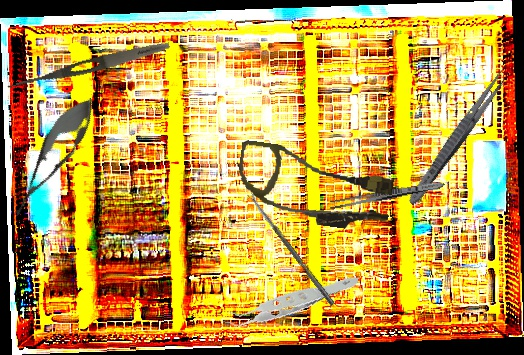Cannula: (232, 139, 397, 235)
Dressing Forceps: (404, 66, 511, 209), (5, 37, 172, 96), (327, 178, 446, 212)
Micro Scissor: (0, 88, 106, 225)
Surgical Spoon: (247, 191, 336, 307)
Tissue Forceps: (217, 248, 359, 351)
